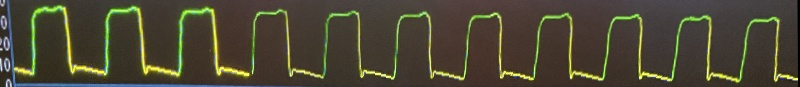normal_pressure: (13, 6, 800, 87)
